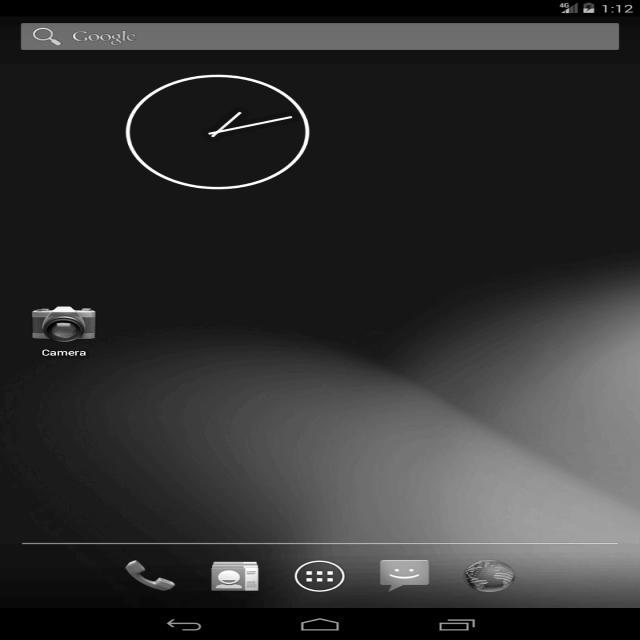ImageView: (124, 68, 325, 202), (14, 298, 124, 364), (106, 542, 184, 592), (194, 552, 278, 596), (299, 549, 346, 603), (372, 559, 436, 595), (458, 558, 524, 590)
